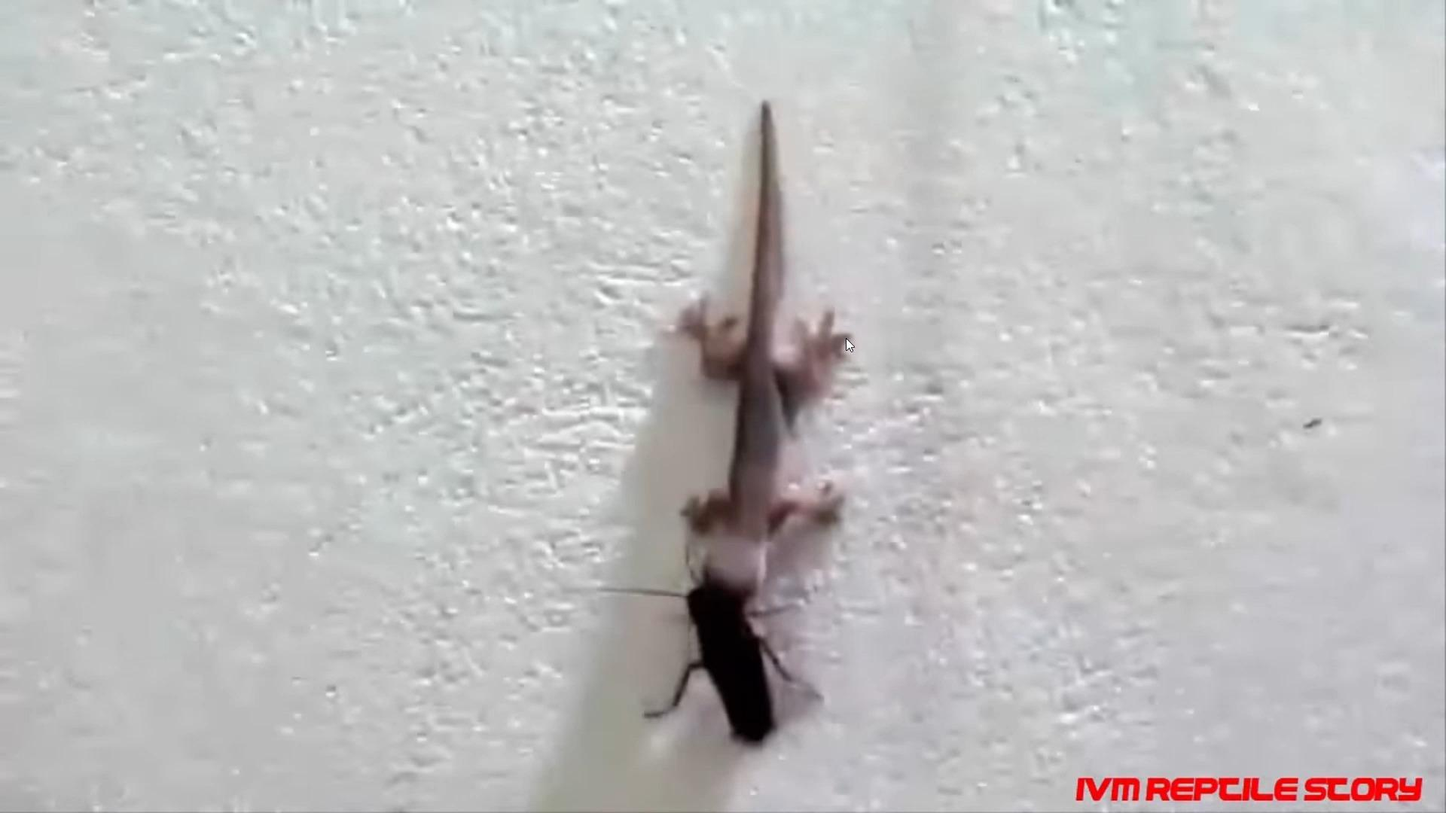cockroach: (669, 583, 787, 750)
lizard: (674, 176, 837, 603)
